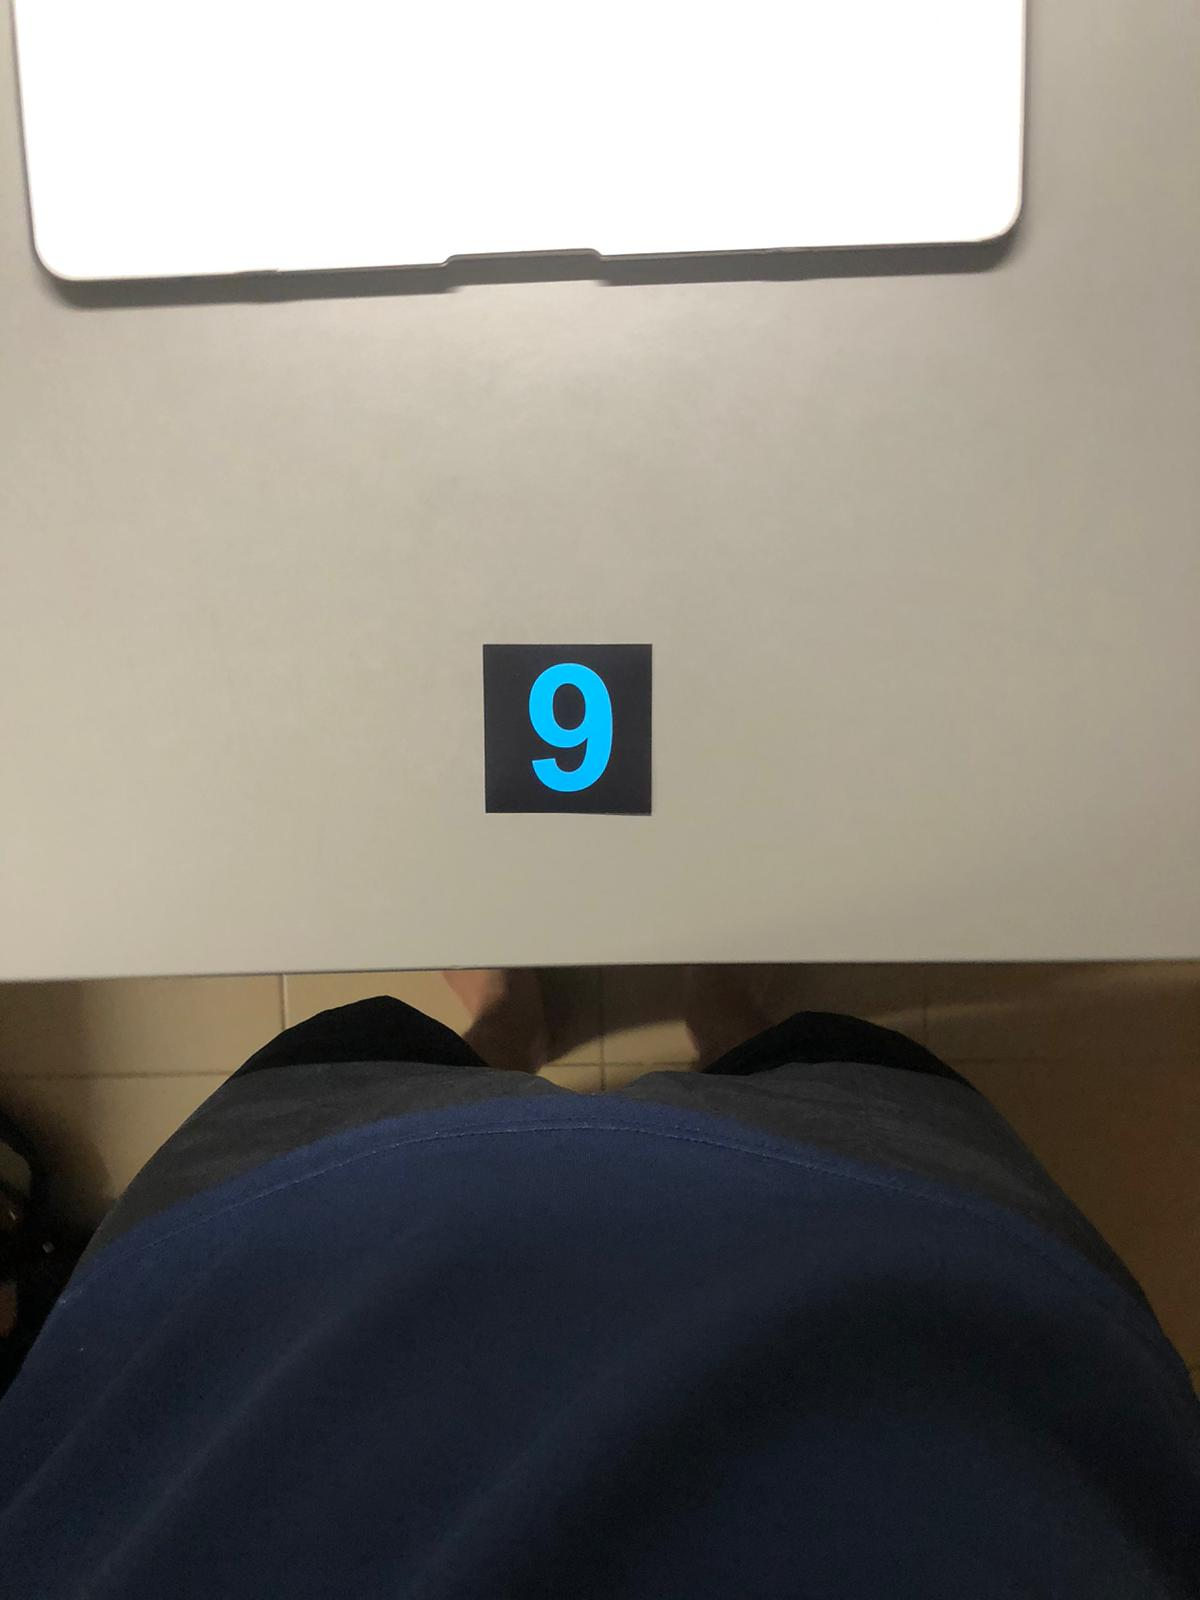Number 9: (487, 646, 649, 813)
